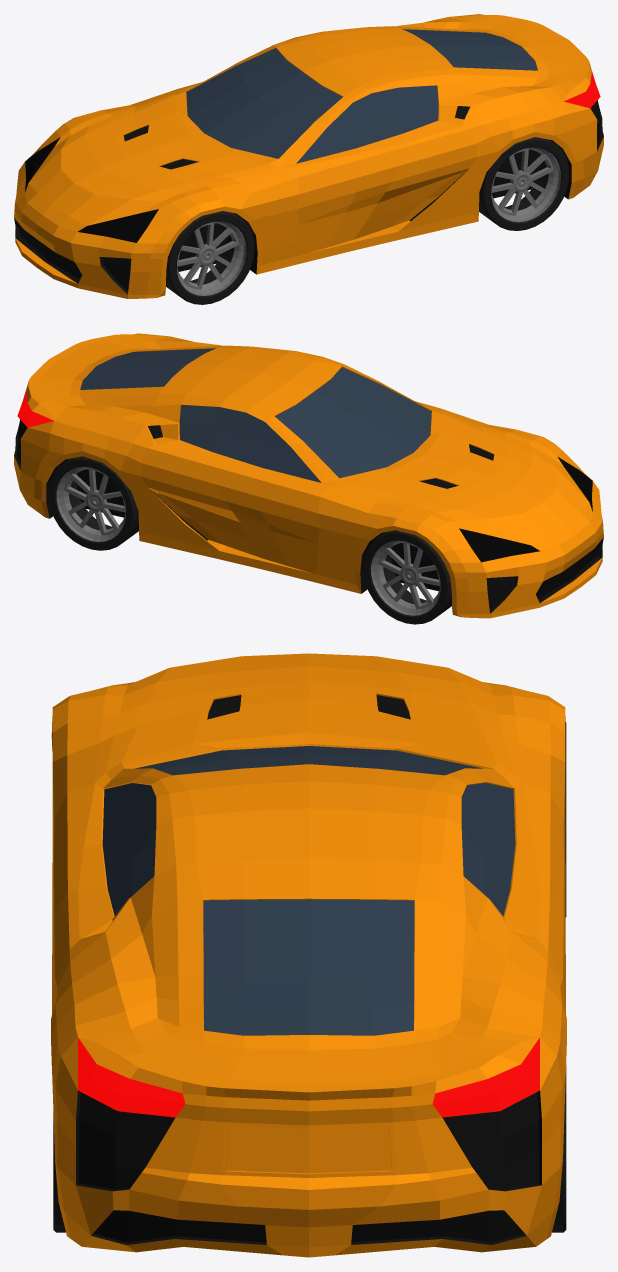
The model's file is LexussLFA.fbx.
3 views of the same model, one above another, from view 1: azimuth 30°, elevation 25°; view 2: azimuth 150°, elevation 25°; view 3: azimuth 270°, elevation 25° (orthographic). The views are drawn at different scales.
Visible parts, largest first — view 1: Plane.011_Material.127_0, Plane.011_Material.123_0, Plane.011_Material.124_0, Circle.015_Material.121_0, Circle.014_Material.121_0, Circle.015_Material.122_0, Circle.014_Material.122_0, Plane.011_Material.126_0, Plane.011_Material.125_0; view 2: Plane.011_Material.127_0, Plane.011_Material.123_0, Plane.011_Material.124_0, Circle.015_Material.121_0, Circle.014_Material.121_0, Circle.015_Material.122_0, Circle.014_Material.122_0, Plane.011_Material.126_0, Plane.011_Material.125_0; view 3: Plane.011_Material.127_0, Plane.011_Material.123_0, Plane.011_Material.124_0, Plane.011_Material.125_0, Circle.014_Material.122_0.
Boxes of the visible parts, box(x1,y1,x2,y2) form: Plane.011_Material.127_0: box(14, 14, 603, 298); Plane.011_Material.123_0: box(186, 29, 537, 163); Plane.011_Material.124_0: box(14, 100, 603, 294); Circle.015_Material.121_0: box(177, 221, 246, 295); Circle.014_Material.121_0: box(491, 147, 560, 222); Circle.015_Material.122_0: box(166, 211, 254, 304); Circle.014_Material.122_0: box(479, 137, 568, 230); Plane.011_Material.126_0: box(25, 137, 158, 242); Plane.011_Material.125_0: box(564, 71, 600, 108); Plane.011_Material.127_0: box(14, 333, 603, 618); Plane.011_Material.123_0: box(80, 348, 431, 482); Plane.011_Material.124_0: box(14, 419, 603, 613); Circle.015_Material.121_0: box(371, 540, 440, 615); Circle.014_Material.121_0: box(56, 467, 125, 541); Circle.015_Material.122_0: box(363, 530, 451, 624); Circle.014_Material.122_0: box(48, 456, 138, 550); Plane.011_Material.126_0: box(459, 457, 592, 562); Plane.011_Material.125_0: box(17, 391, 53, 427); Plane.011_Material.127_0: box(51, 653, 566, 1257); Plane.011_Material.123_0: box(102, 746, 515, 1035); Plane.011_Material.124_0: box(52, 695, 541, 1244); Plane.011_Material.125_0: box(78, 1037, 539, 1117); Circle.014_Material.122_0: box(53, 1065, 566, 1232).
Size of the model in its own units: 4.51 by 1.24 by 1.86.
